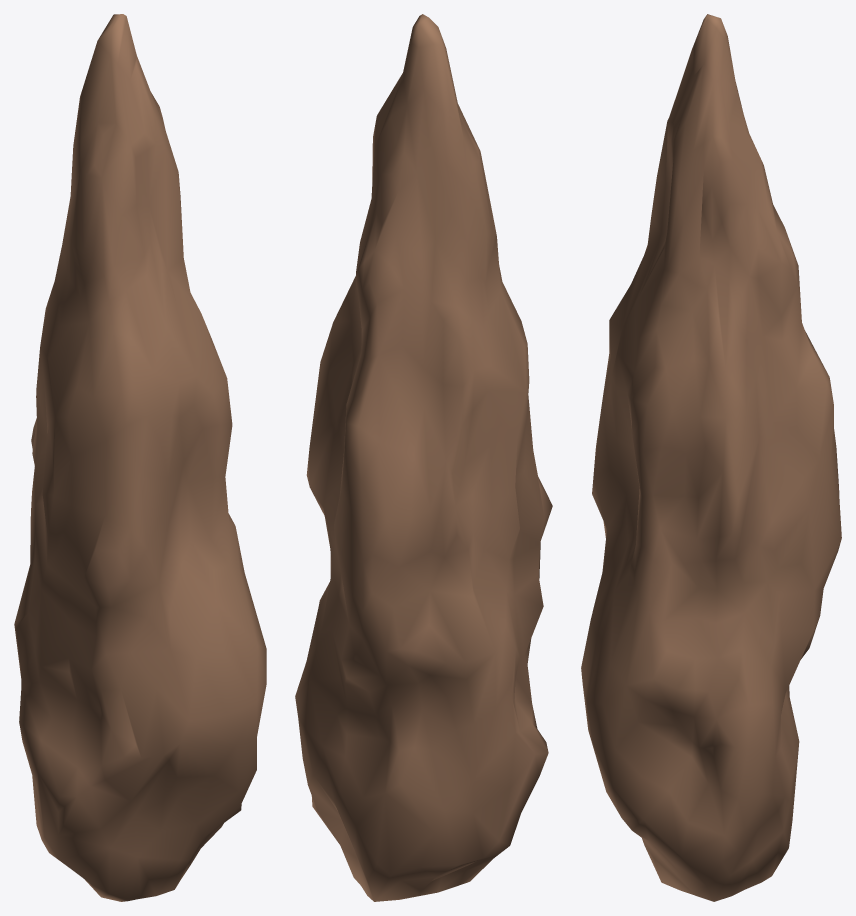
File: termite_2.glb
3 renders of one model, left to right at view 1: azimuth 30°, elevation 25°; view 2: azimuth 150°, elevation 25°; view 3: azimuth 270°, elevation 25°, orthographic.
Visible parts, largest first — view 1: termite_2; view 2: termite_2; view 3: termite_2.
Part boxes in pixels (bbox=[...]): termite_2: bbox=[14, 14, 266, 901]; termite_2: bbox=[295, 14, 552, 901]; termite_2: bbox=[581, 14, 841, 901].
Bounding box in the file's own units: 0.2527 × 1 × 0.2766.
